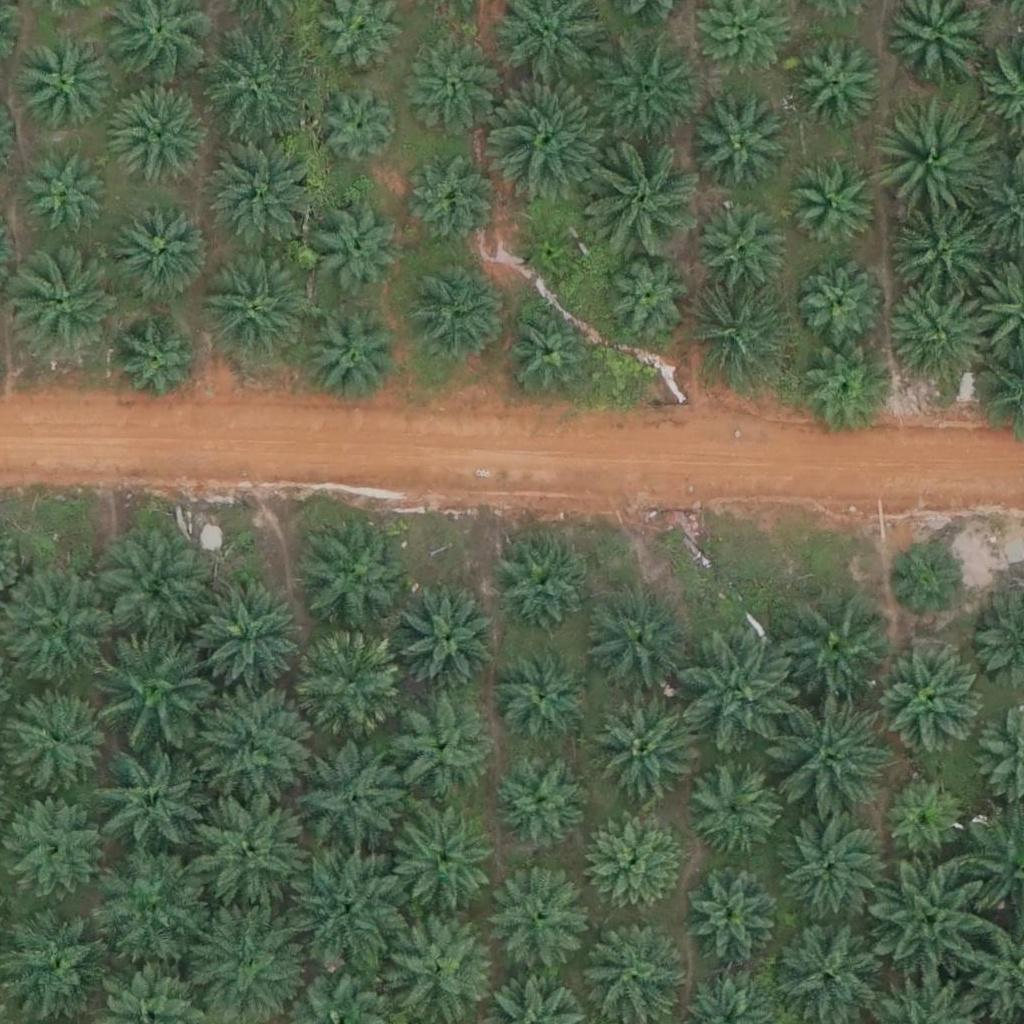Kelapa_Sawit: (297, 516, 410, 630), (195, 580, 308, 694), (195, 789, 308, 903), (94, 849, 207, 963), (586, 139, 699, 253), (681, 635, 794, 748), (767, 692, 880, 805), (380, 907, 493, 1020), (289, 844, 402, 957), (293, 630, 406, 743), (191, 694, 304, 807), (188, 908, 301, 1021), (101, 631, 214, 744), (685, 278, 798, 391), (585, 585, 697, 699), (382, 696, 494, 810), (296, 740, 408, 854), (5, 569, 117, 683), (885, 274, 997, 388), (197, 252, 309, 366), (872, 863, 984, 976), (875, 642, 987, 755), (781, 591, 893, 704), (95, 744, 207, 857), (99, 532, 211, 645), (879, 108, 991, 221), (589, 32, 701, 145), (491, 85, 603, 198), (200, 30, 312, 143), (208, 142, 320, 255), (12, 248, 124, 361), (583, 922, 683, 1023), (492, 534, 592, 635), (775, 809, 875, 910), (395, 592, 495, 693), (393, 812, 493, 913), (7, 685, 107, 786), (693, 196, 793, 297), (600, 247, 700, 348), (408, 265, 508, 366), (302, 309, 402, 410), (113, 200, 213, 301), (14, 36, 114, 137), (594, 704, 694, 804), (582, 816, 682, 916), (493, 869, 593, 969), (490, 753, 590, 853), (493, 648, 593, 748), (6, 796, 106, 896), (891, 201, 991, 301), (795, 342, 895, 442), (693, 105, 793, 205), (112, 83, 212, 183), (680, 874, 768, 962), (793, 39, 881, 127), (786, 163, 874, 251), (790, 255, 878, 343), (409, 40, 497, 128), (314, 85, 402, 173), (114, 323, 202, 411), (506, 306, 593, 395), (26, 151, 113, 240), (690, 761, 777, 849), (407, 156, 494, 244), (314, 202, 401, 290), (885, 780, 960, 856), (894, 545, 969, 620), (522, 224, 585, 287)
